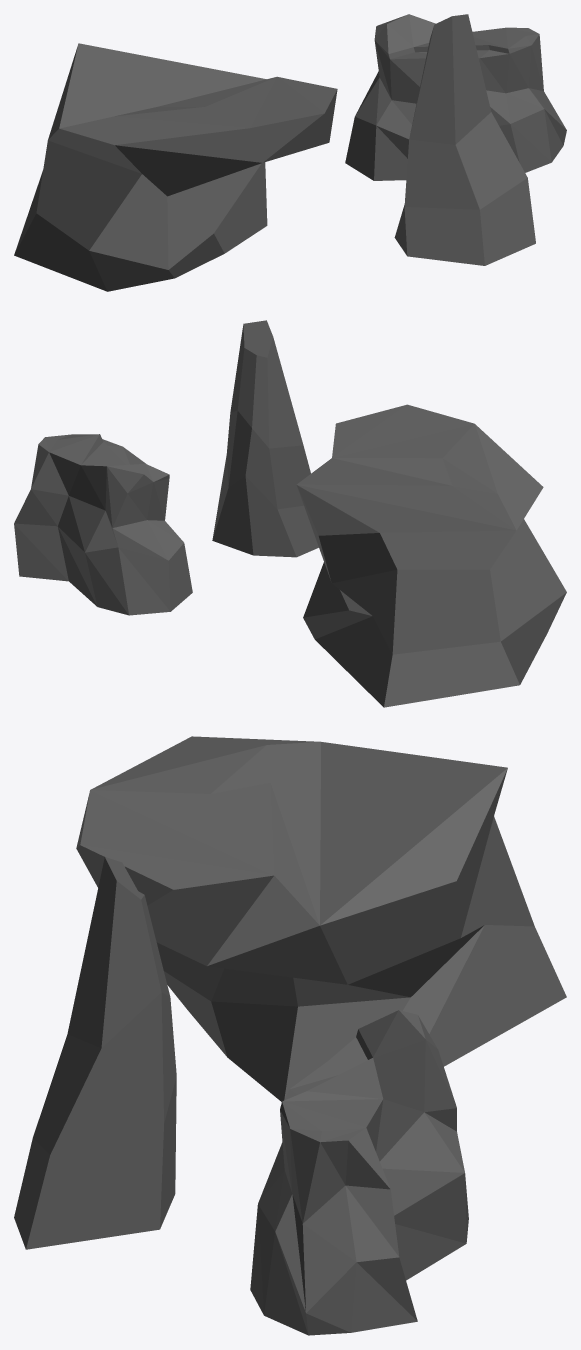
The model's file is LargeStones.FBX.
3 renders of one model, top to bottom at view 1: azimuth 30°, elevation 25°; view 2: azimuth 150°, elevation 25°; view 3: azimuth 270°, elevation 25°, orthographic. The views are drawn at different scales.
Visible parts, largest first — view 1: Object004, Object007, Object003; view 2: Object004, Object003, Object007; view 3: Object004, Object003, Object007.
Boxes of the visible parts, x1,y1,x2,y2 form: Object004: [14, 43, 337, 291]; Object007: [394, 14, 535, 265]; Object003: [345, 14, 566, 180]; Object004: [296, 404, 566, 707]; Object003: [14, 434, 192, 615]; Object007: [212, 320, 318, 557]; Object004: [76, 736, 566, 1101]; Object003: [250, 1010, 468, 1335]; Object007: [14, 857, 176, 1249].
Bounding box in the file's own units: 1307 × 543 × 761.
Materials: 1 (1 with a texture image).
